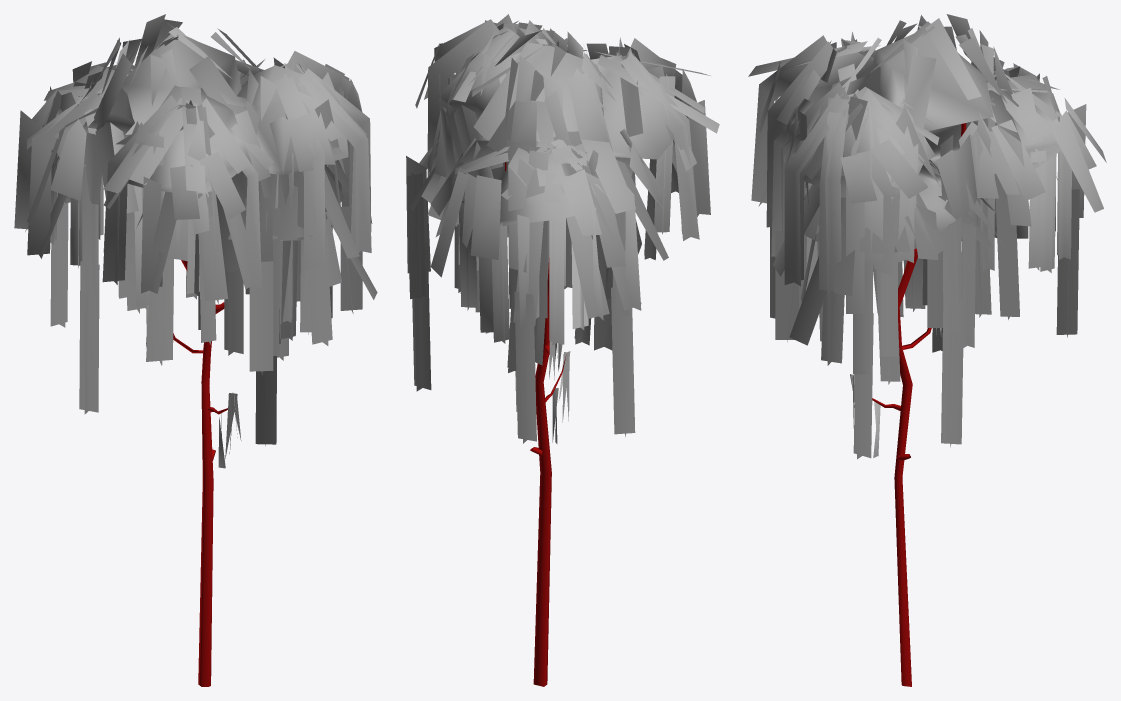
File: env_forest_birch02_lod1.fbx
The picture shows the model from 3 angles, left to right: view 1: azimuth 30°, elevation 25°; view 2: azimuth 150°, elevation 25°; view 3: azimuth 270°, elevation 25°; orthographic projection.
Parts seen in each view (by area): view 1: env_forest_birch02_lod1__submesh0; view 2: env_forest_birch02_lod1__submesh0; view 3: env_forest_birch02_lod1__submesh0.
Part boxes in pixels (x1,y1,x2,y2): env_forest_birch02_lod1__submesh0: (14,14,377,686); env_forest_birch02_lod1__submesh0: (406,14,719,686); env_forest_birch02_lod1__submesh0: (748,14,1106,686).
Size of the model in its own units: 63.84 by 139 by 68.98.
